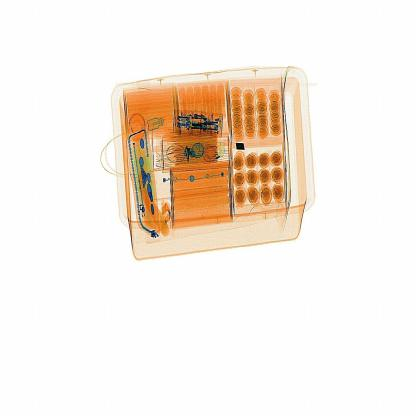wrench: (228, 142, 255, 161)
